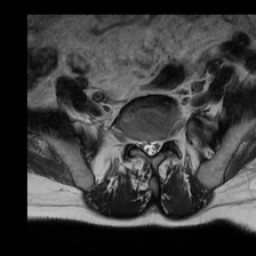CCS_stenosis: (147, 133, 154, 159)
LFS_stenosis: (163, 132, 171, 151)
LLS_normal: (154, 133, 162, 156)
RFS_stenosis: (131, 132, 140, 152)
RLS_normal: (140, 133, 147, 155)
